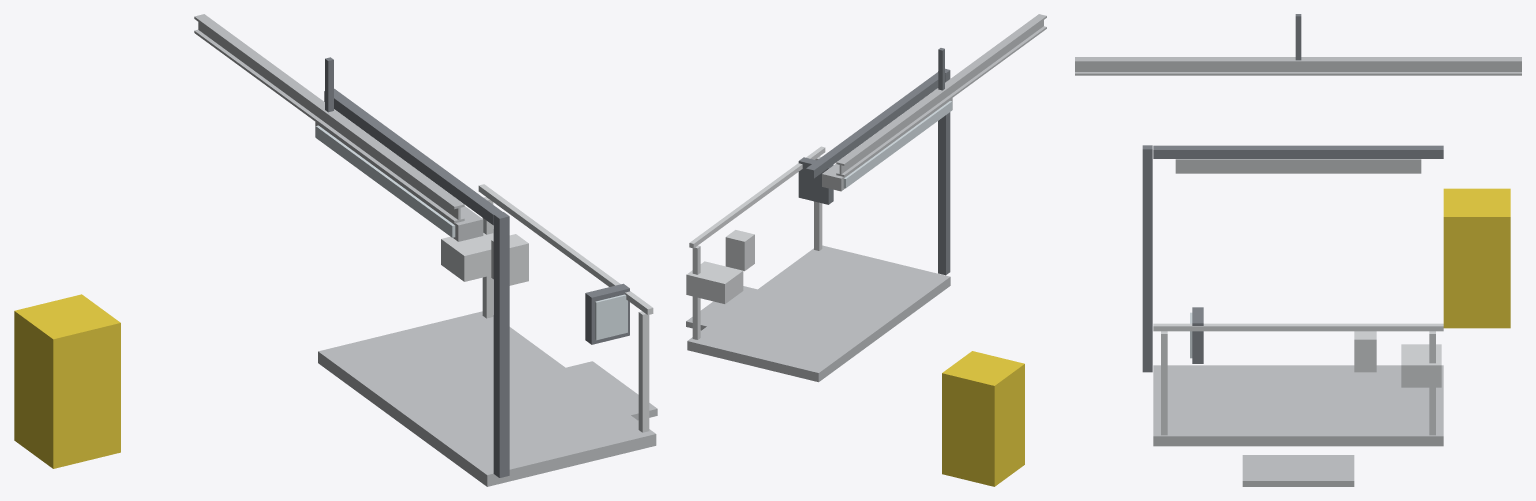
Rendered from SM_CARCASS_INSPECTION.fbx.
3 views of the same model, side by side, from view 1: azimuth 30°, elevation 25°; view 2: azimuth 150°, elevation 25°; view 3: azimuth 270°, elevation 25° (orthographic). The views are drawn at different scales.
Visible parts, largest first — view 1: SM_CARCASS_INSPECTION; view 2: SM_CARCASS_INSPECTION; view 3: SM_CARCASS_INSPECTION.
Boxes of the visible parts, x1,y1,x2,y2 form: SM_CARCASS_INSPECTION: (14,14,657,486); SM_CARCASS_INSPECTION: (686,14,1046,486); SM_CARCASS_INSPECTION: (1075,14,1521,486).
Bounding box in the file's own units: 432 × 361 × 400.
